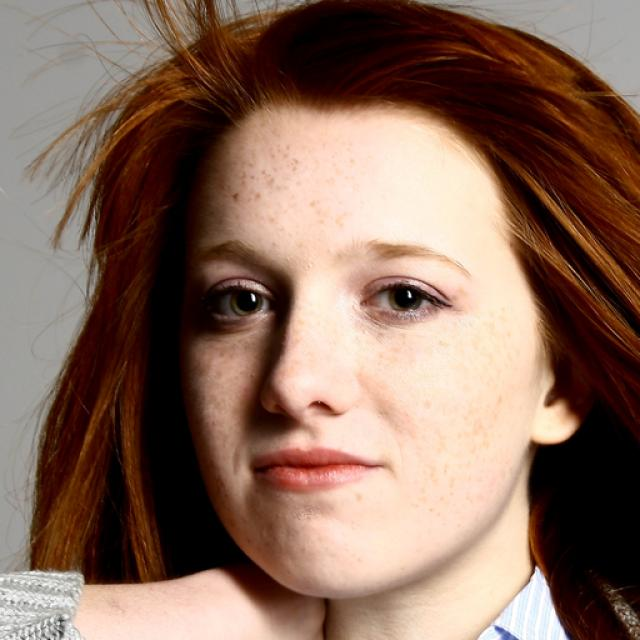Pigmentation: (217, 128, 313, 212)
